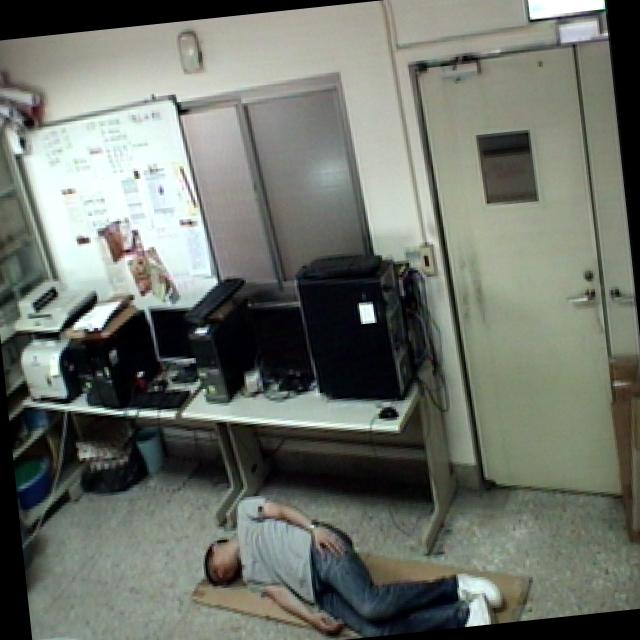lie: (180, 463, 513, 640)
